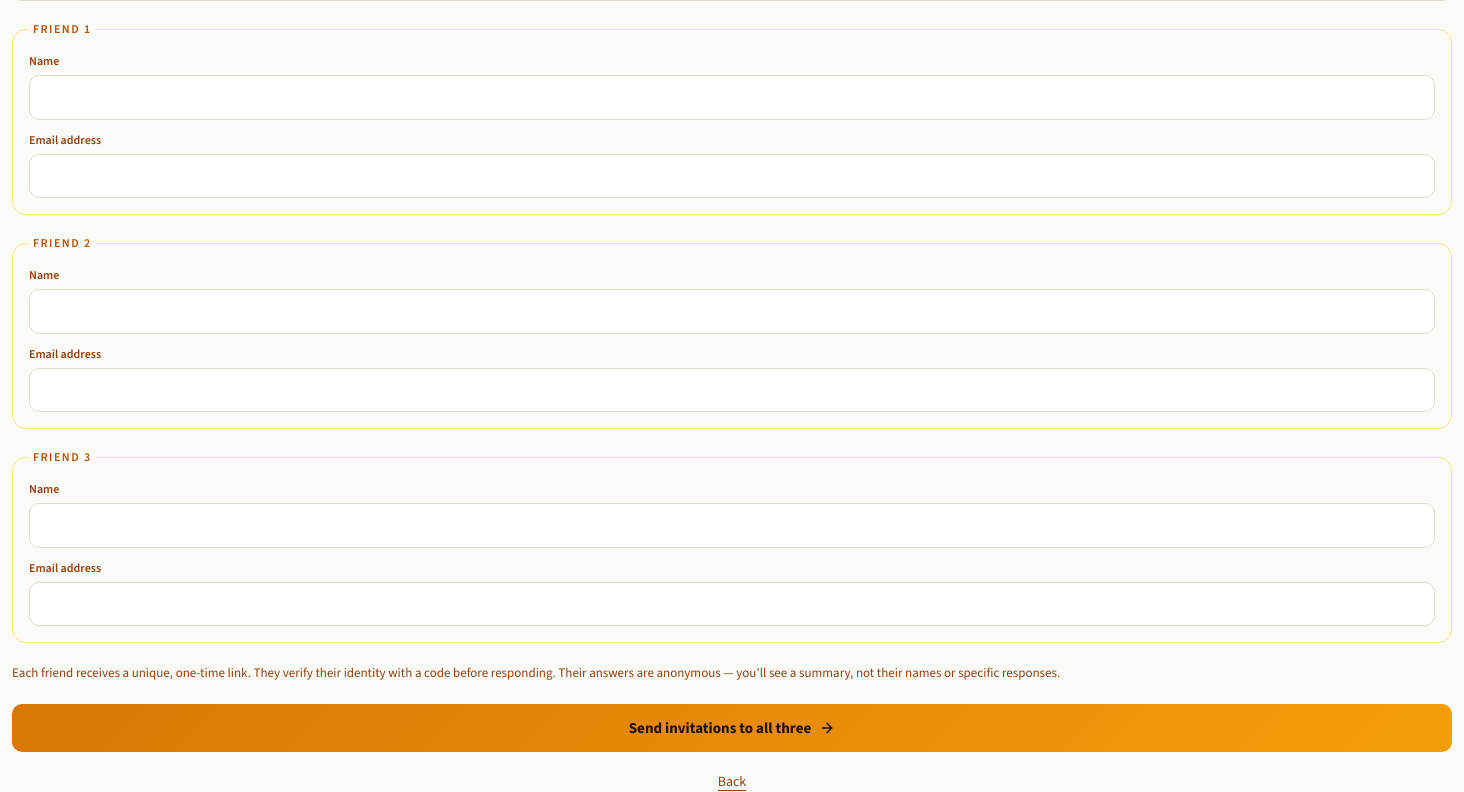
Test case: StepNominate › shows every required-field message and sends nothing when empty
(page scrolled)
Click the button "Send invitations to all three": {"x": 732, "y": 728} [12,704,1452,752]
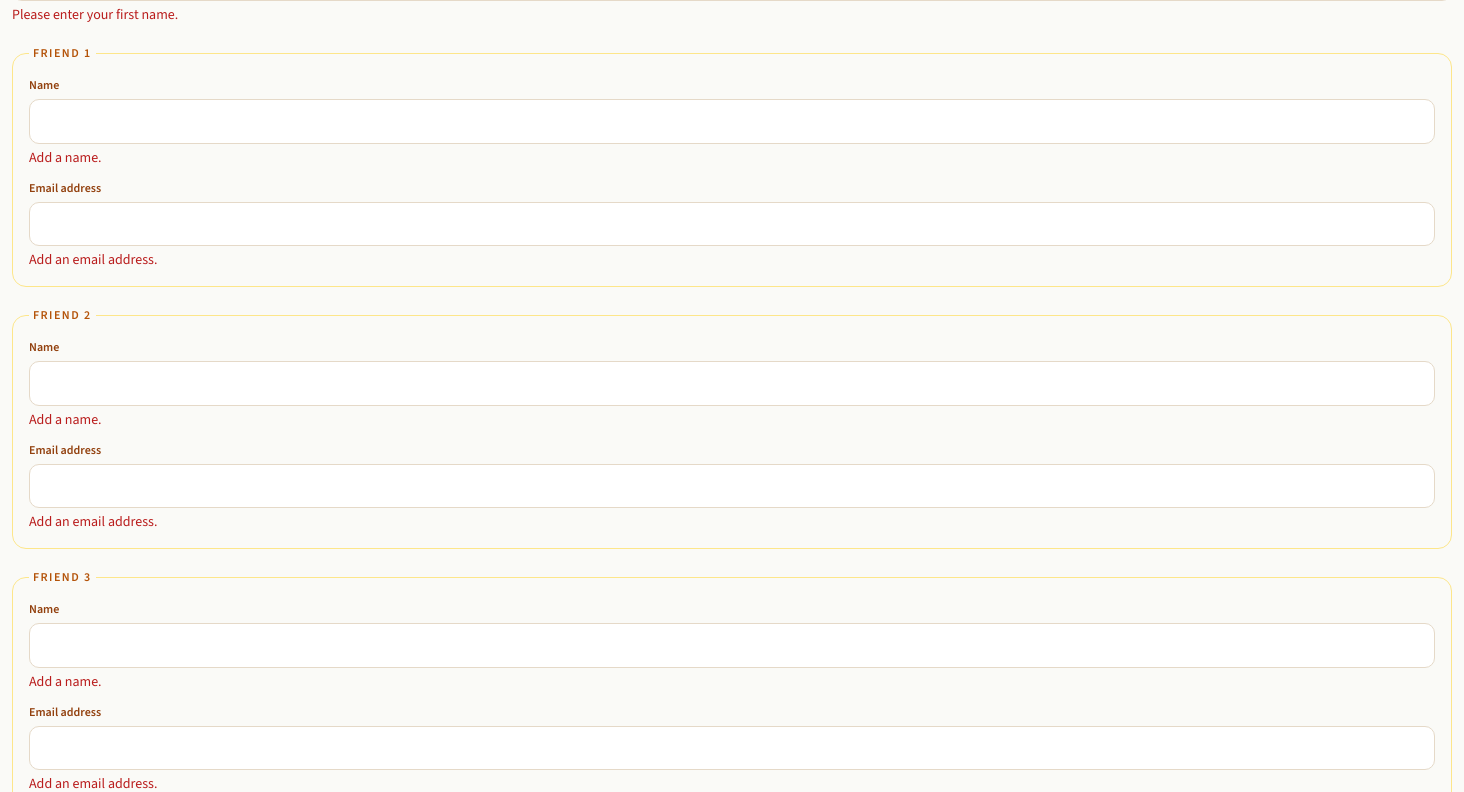
Expected: the text "Please enter your first name." is shown, [12,5,178,24]
Expected: the text "Add a name." is shown 3 times, [29,148,102,166]; [29,410,102,428]; [29,672,102,690]
Expected: the text "Add an email address." is shown 3 times, [29,250,157,269]; [29,512,157,531]; [29,774,157,791]
